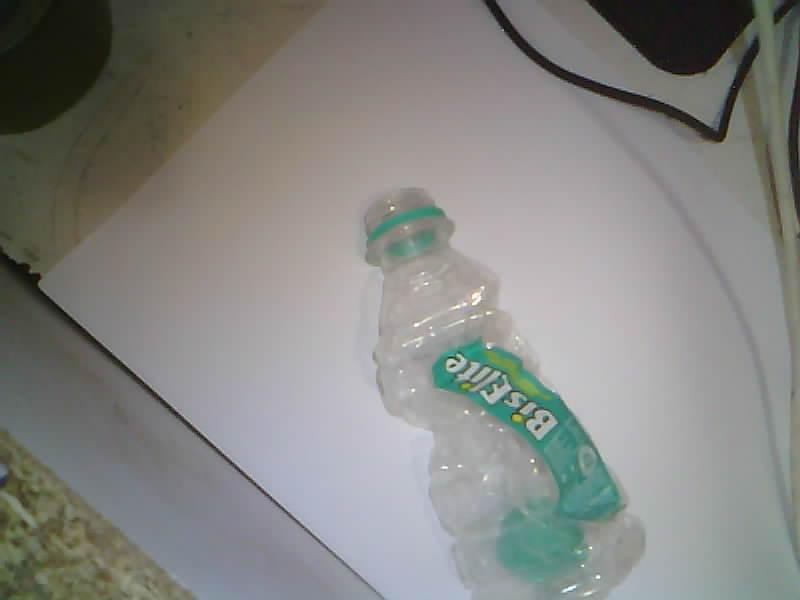non-biodegradable: (366, 190, 644, 599)
